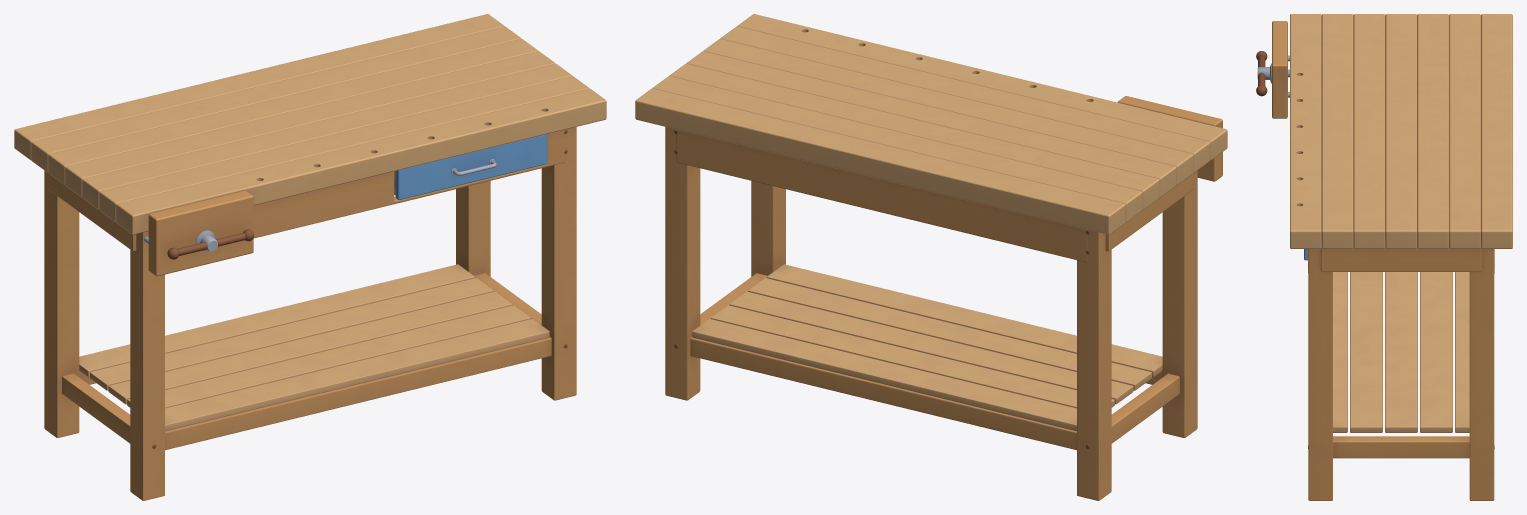
The model's file is workbench.glb.
3 renders of one model, left to right at view 1: azimuth 30°, elevation 25°; view 2: azimuth 150°, elevation 25°; view 3: azimuth 270°, elevation 25°, orthographic. The views are drawn at different scales.
Visible parts, largest first — view 1: workbench_body, workbench_drawer; view 2: workbench_body; view 3: workbench_body.
Part boxes in pixels (bbox=[...]): workbench_body: bbox=[14, 14, 606, 500]; workbench_drawer: bbox=[394, 134, 547, 199]; workbench_body: bbox=[635, 14, 1227, 500]; workbench_body: bbox=[1256, 14, 1512, 500].
Size of the model in its own units: 1.5 by 0.9 by 0.7485.
2 materials, 2 textured.
